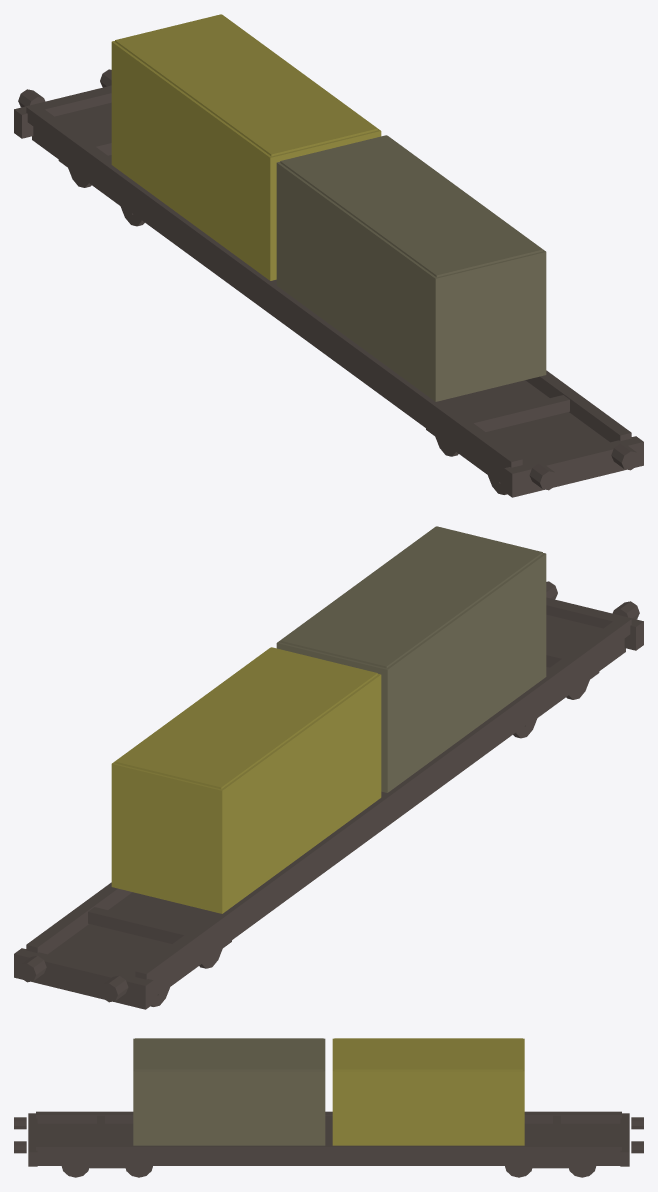
File: SM_Vagon_Cercano_v5_LOD1.fbx
3 renders of one model, top to bottom at view 1: azimuth 30°, elevation 25°; view 2: azimuth 150°, elevation 25°; view 3: azimuth 270°, elevation 25°, orthographic. The views are drawn at different scales.
Visible parts, largest first — view 1: SM_bloques.vagon_cercano_v5_LOD1; view 2: SM_bloques.vagon_cercano_v5_LOD1; view 3: SM_bloques.vagon_cercano_v5_LOD1.
Part boxes in pixels (x1,y1,x2,y2): SM_bloques.vagon_cercano_v5_LOD1: [14, 14, 643, 497]; SM_bloques.vagon_cercano_v5_LOD1: [14, 526, 643, 1009]; SM_bloques.vagon_cercano_v5_LOD1: [14, 1038, 643, 1177].
Size of the model in its own units: 2.9 by 3.9 by 19.9.
